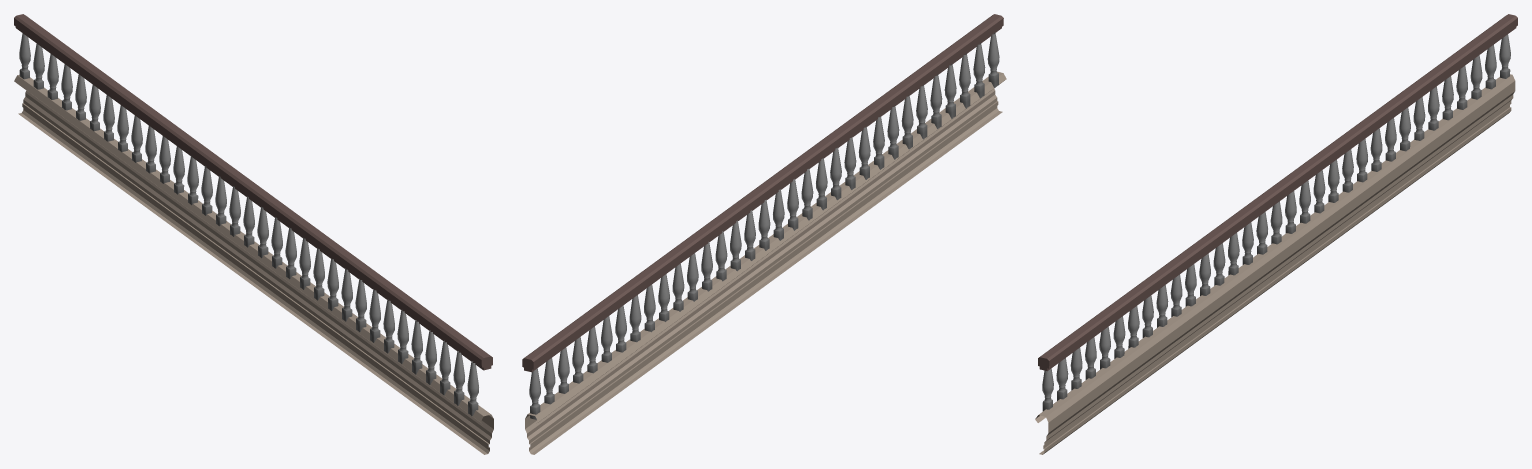
The model's file is StairsDouble1.fbx.
The picture shows the model from 3 angles, left to right: view 1: azimuth 30°, elevation 25°; view 2: azimuth 150°, elevation 25°; view 3: azimuth 330°, elevation 25°; orthographic projection.
Parts seen in each view (by area): view 1: StairsDouble.004; view 2: StairsDouble.004; view 3: StairsDouble.004.
Part boxes in pixels (left/top/right/bottom): StairsDouble.004: left=14, top=14, right=493, bottom=454; StairsDouble.004: left=522, top=14, right=1006, bottom=454; StairsDouble.004: left=1035, top=14, right=1517, bottom=454.
Size of the model in its own units: 0.2806 by 1.68 by 14.81.
